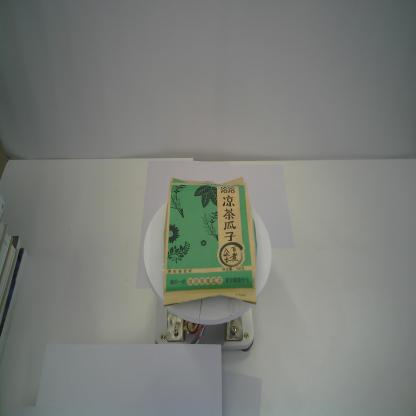Dried Food: (160, 174, 259, 308)
